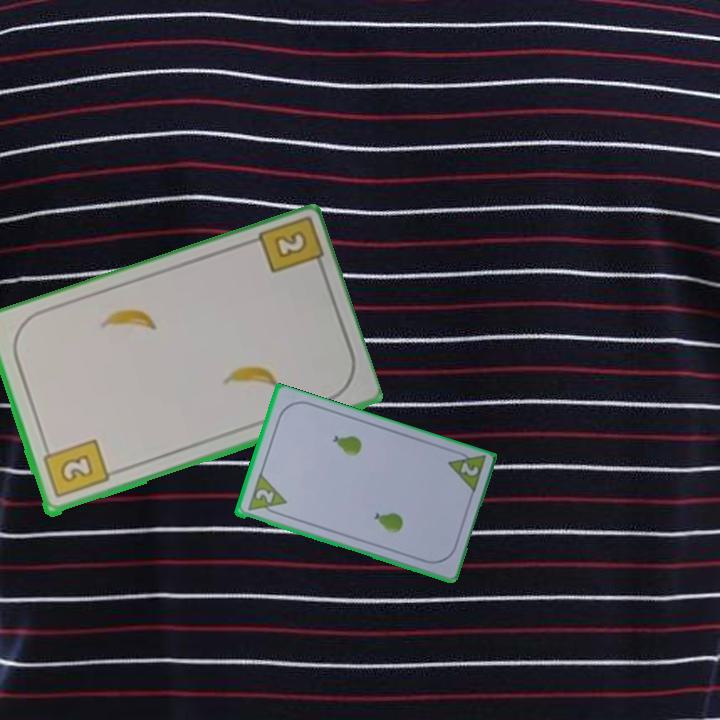2b: (39, 436, 111, 502), (270, 227, 310, 262)
2p: (243, 472, 289, 519), (456, 459, 481, 479)
